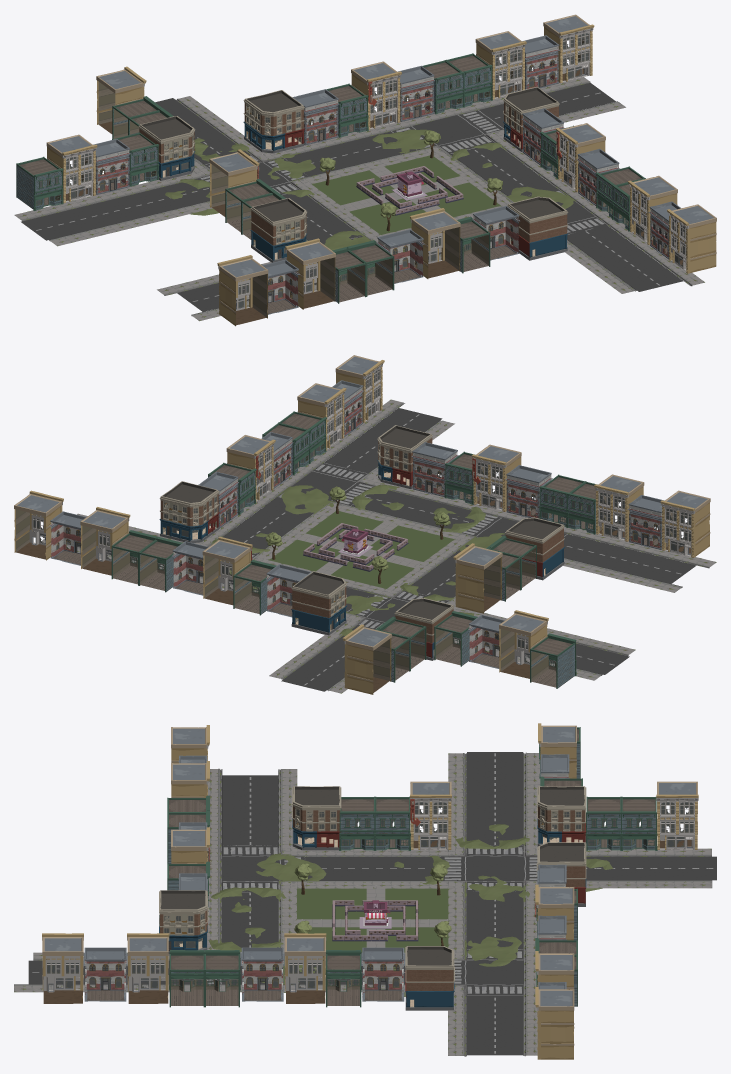
The model's file is NewSupermarketScene.fbx.
The picture shows the model from 3 angles, top to bottom: view 1: azimuth 30°, elevation 25°; view 2: azimuth 150°, elevation 25°; view 3: azimuth 270°, elevation 25°; orthographic projection. The views are drawn at different scales.
Visible parts, largest first — view 1: SM_Env_Road_01.086, SM_Env_Sidewalk_Straight_01.162, Cube, SM_Bld_Shop_Large_01.001, SM_Bld_Apartment_01.009, SM_Bld_Apartment_01.006, SM_Bld_Shop_Large_01.004, SM_Bld_Shop_Large_01.005, SM_Bld_Apartment_01.008, SM_Bld_Apartment_01.007, SM_Bld_Shop_Large_01.002, SM_Bld_Apartment_01.012 (+39 smaller); view 2: SM_Env_Road_01.086, SM_Env_Sidewalk_Straight_01.162, Cube, SM_Bld_Shop_Large_01.003, SM_Bld_Shop_Large_01.001, SM_Bld_Apartment_01.011, SM_Bld_Apartment_01.010, SM_Bld_Apartment_01.009, SM_Bld_Apartment_01.004, SM_Bld_Apartment_01.012, SM_Bld_Apartment_01.003, SM_Bld_Apartment_01.001 (+39 smaller); view 3: SM_Env_Road_01.086, SM_Env_Sidewalk_Straight_01.162, Cube, SM_Bld_Shop_Large_01.003, SM_Bld_Shop_Large_01.005, SM_Bld_Apartment_01.005, SM_Bld_Apartment_01.006, SM_Bld_Shop_Large_01.002, SM_Bld_Apartment_01.002, SM_Bld_Shop_Large_01.004, SM_Bld_Apartment_01.011, SM_Bld_Apartment_01.010 (+33 smaller).
Boxes of the visible parts, box(x1,y1,x2,y2) form: SM_Env_Road_01.086: box(21, 83, 683, 311); SM_Env_Sidewalk_Straight_01.162: box(14, 77, 704, 321); Cube: box(312, 155, 500, 234); SM_Bld_Shop_Large_01.001: box(243, 90, 304, 153); SM_Bld_Apartment_01.009: box(217, 255, 268, 326); SM_Bld_Apartment_01.006: box(667, 204, 716, 273); SM_Bld_Shop_Large_01.004: box(507, 196, 568, 260); SM_Bld_Shop_Large_01.005: box(250, 198, 307, 262); SM_Bld_Apartment_01.008: box(285, 238, 335, 309); SM_Bld_Apartment_01.007: box(409, 208, 460, 278); SM_Bld_Shop_Large_01.002: box(138, 116, 195, 180); SM_Bld_Apartment_01.012: box(46, 134, 97, 203); SM_Env_Road_01.086: box(66, 408, 696, 691); SM_Env_Sidewalk_Straight_01.162: box(41, 399, 716, 693); Cube: box(269, 511, 454, 588); SM_Bld_Shop_Large_01.003: box(159, 481, 219, 543); SM_Bld_Shop_Large_01.001: box(291, 571, 347, 635); SM_Bld_Apartment_01.011: box(342, 624, 391, 694); SM_Bld_Apartment_01.010: box(453, 543, 502, 613); SM_Bld_Apartment_01.009: box(660, 490, 710, 557); SM_Bld_Apartment_01.004: box(14, 490, 63, 560); SM_Bld_Apartment_01.012: box(499, 610, 548, 678); SM_Bld_Apartment_01.003: box(80, 507, 130, 575); SM_Bld_Apartment_01.001: box(202, 536, 252, 605); SM_Env_Road_01.086: box(28, 752, 716, 1055); SM_Env_Sidewalk_Straight_01.162: box(14, 752, 712, 1056); Cube: box(297, 888, 448, 952); SM_Bld_Shop_Large_01.003: box(405, 946, 454, 1010); SM_Bld_Shop_Large_01.005: box(291, 786, 341, 850); SM_Bld_Apartment_01.005: box(127, 933, 169, 1003); SM_Bld_Apartment_01.006: box(42, 933, 83, 1003); SM_Bld_Shop_Large_01.002: box(536, 786, 586, 846); SM_Bld_Apartment_01.002: box(284, 933, 326, 1003); SM_Bld_Shop_Large_01.004: box(159, 890, 208, 954); SM_Bld_Apartment_01.011: box(656, 781, 698, 849); SM_Bld_Apartment_01.010: box(410, 781, 451, 849).
Bounding box in the file's own units: 271 × 24.22 × 261.
3 materials, 3 textured.
